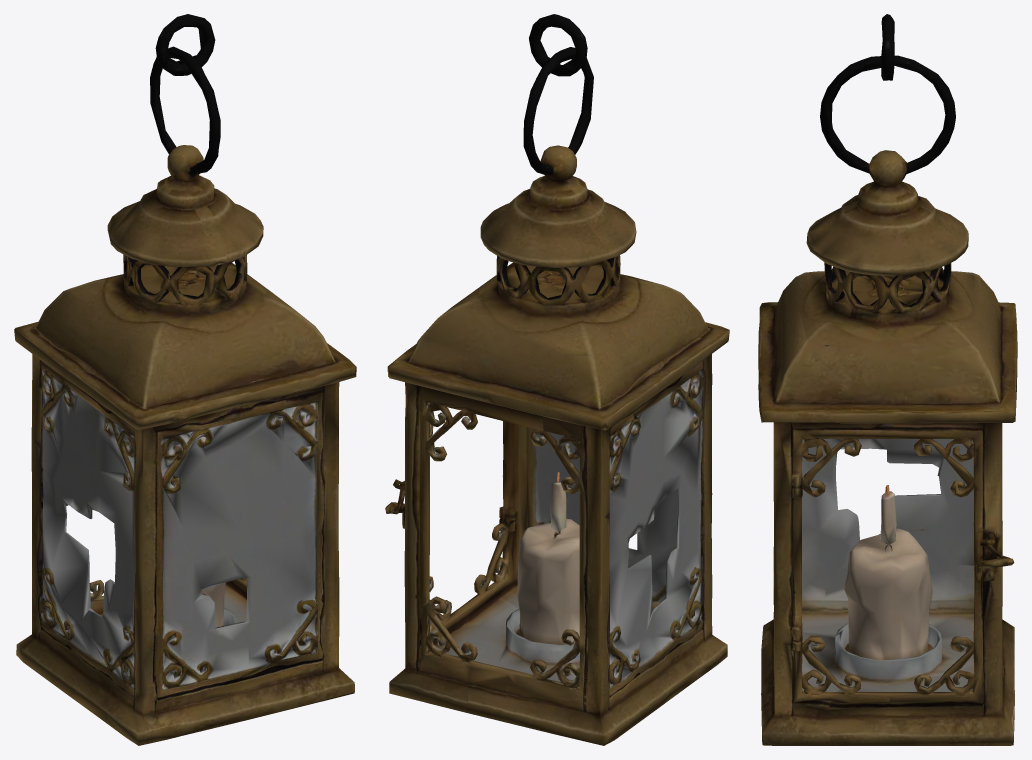
The model's file is lantern.glb.
3 renders of one model, left to right at view 1: azimuth 30°, elevation 25°; view 2: azimuth 150°, elevation 25°; view 3: azimuth 270°, elevation 25°, orthographic. The views are drawn at different scales.
Parts seen in each view (by area): view 1: tripo_node_e0bc8beb-9e1a-4e30-ba65-33419dc7b626; view 2: tripo_node_e0bc8beb-9e1a-4e30-ba65-33419dc7b626; view 3: tripo_node_e0bc8beb-9e1a-4e30-ba65-33419dc7b626.
Boxes of the visible parts, <box> form: tripo_node_e0bc8beb-9e1a-4e30-ba65-33419dc7b626: <box>14,14,356,745</box>; tripo_node_e0bc8beb-9e1a-4e30-ba65-33419dc7b626: <box>385,14,729,745</box>; tripo_node_e0bc8beb-9e1a-4e30-ba65-33419dc7b626: <box>758,14,1017,745</box>.
Bounding box in the file's own units: 0.3515 × 0.9803 × 0.341.
Materials: 1 (1 with a texture image).
